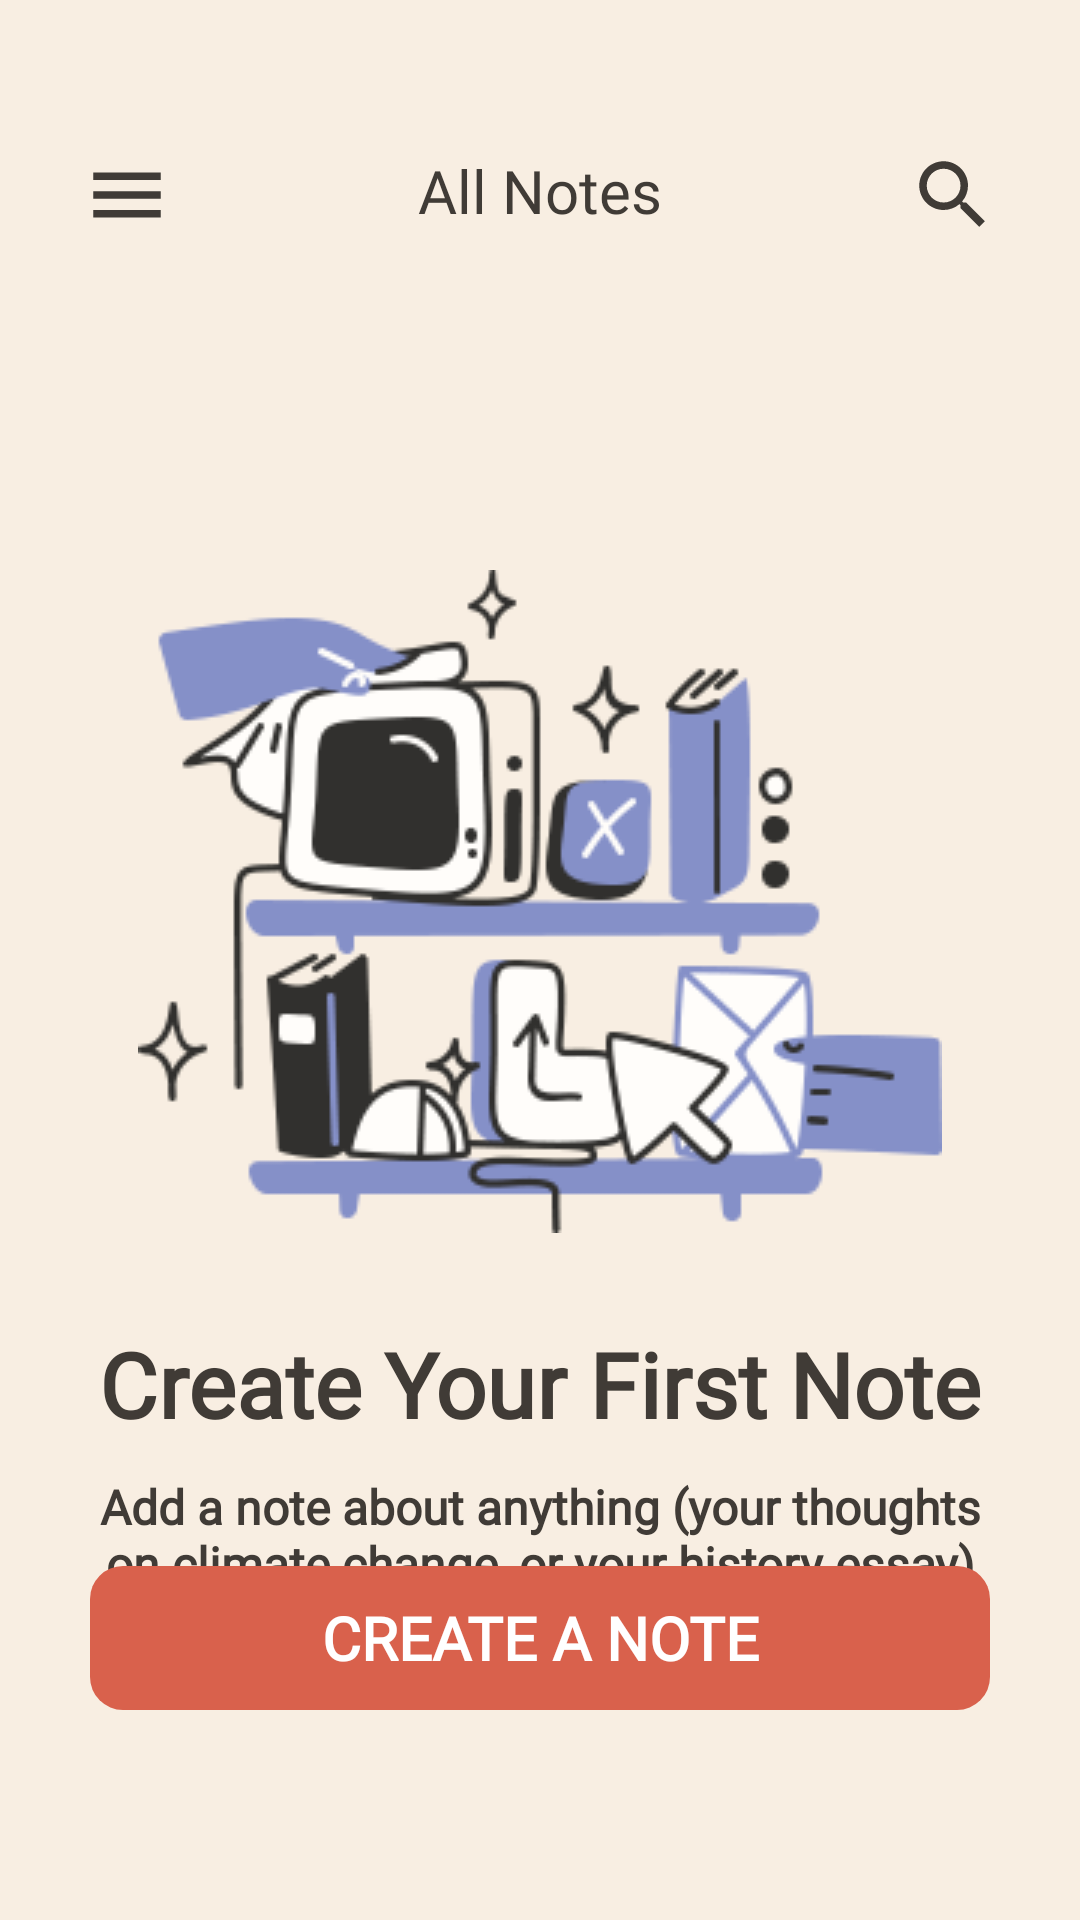

Where to tap for icons on this 1080w x 1920h app screen, as (x=x, y=y):
menu: (x=127, y=195)
search: (x=952, y=194)
